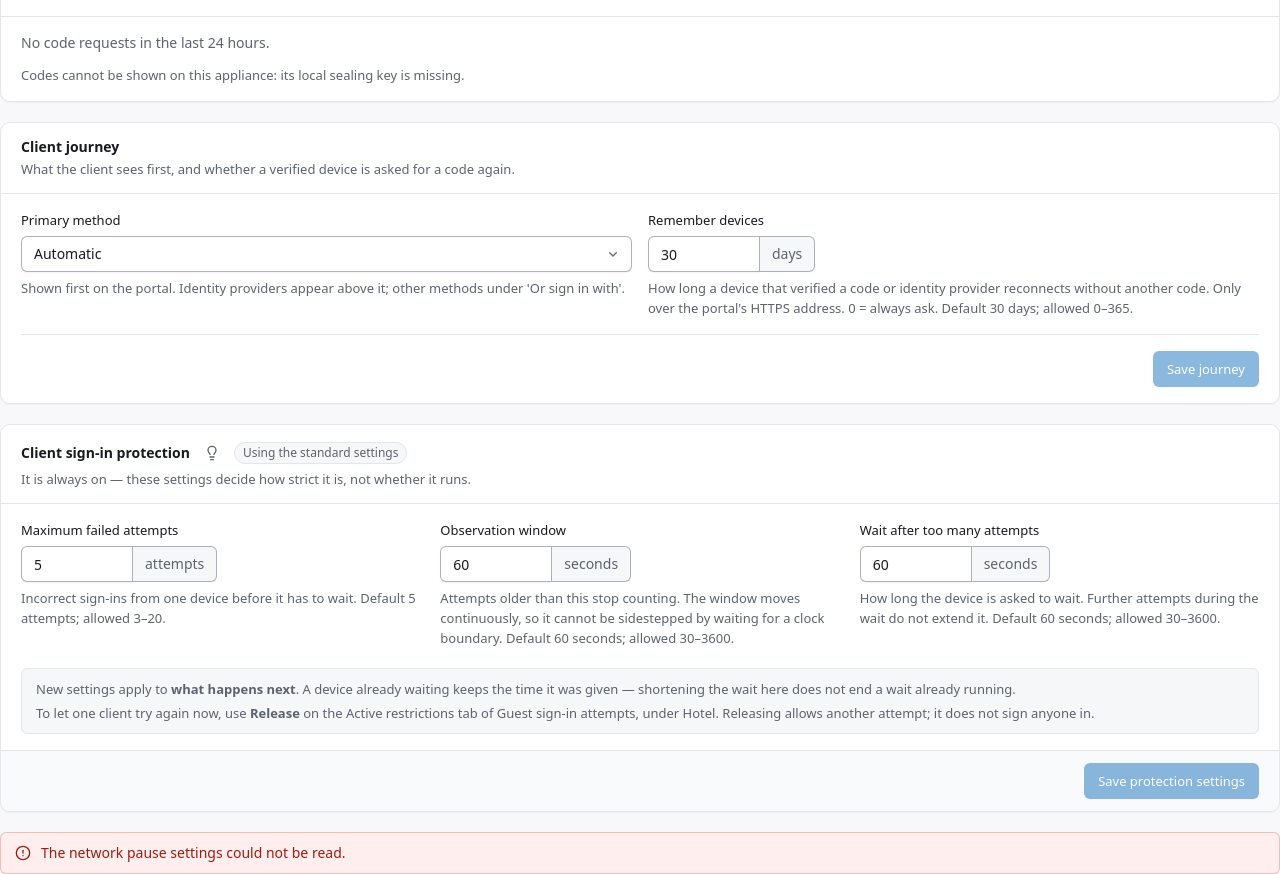
a read-only role is offered no write control › Guest sign-in protection: an out-of-range value blocks Save and says the range
The image size is (1280, 874).
(page scrolled)
Expected: the text "default 5 attempts; allowed 3–20" is shown, top-left (21, 588), bottom-right (420, 628)
Replace the text in the field labelled "Maximum failed attempts" with "1": (77, 564) top-left (21, 546), bottom-right (133, 582)
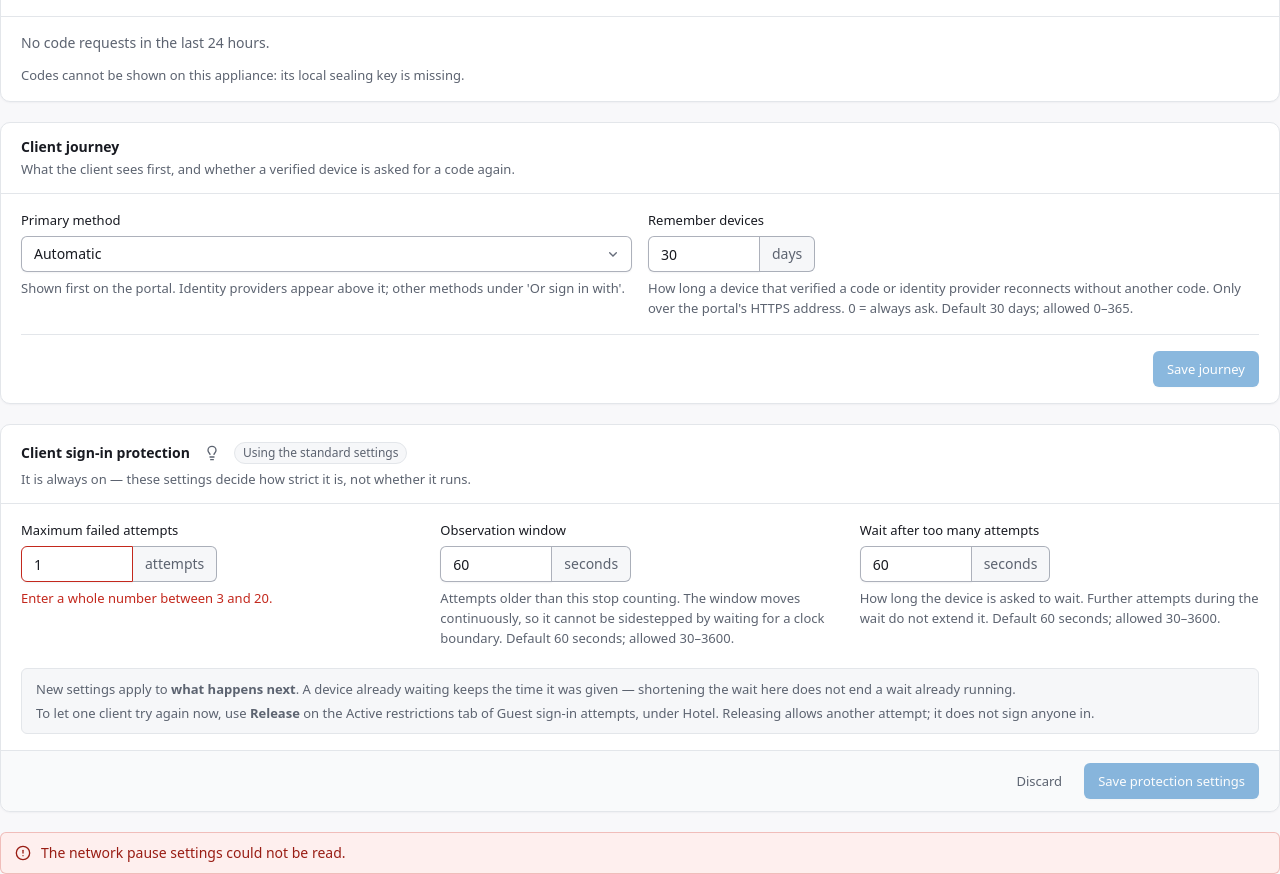
Expected: the button "Save protection settings" is disabled, top-left (1084, 763), bottom-right (1259, 799)
Expected: the text "Enter a whole number between 3 and 20." is shown, top-left (21, 589), bottom-right (272, 607)
